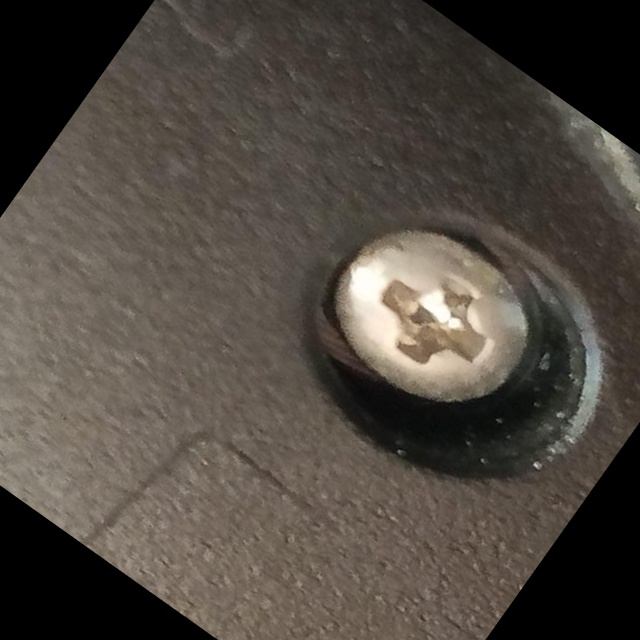phillips: (302, 190, 566, 445)
